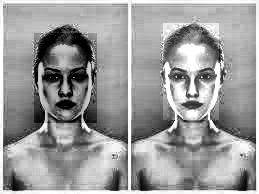sad: (34, 33, 97, 123)
